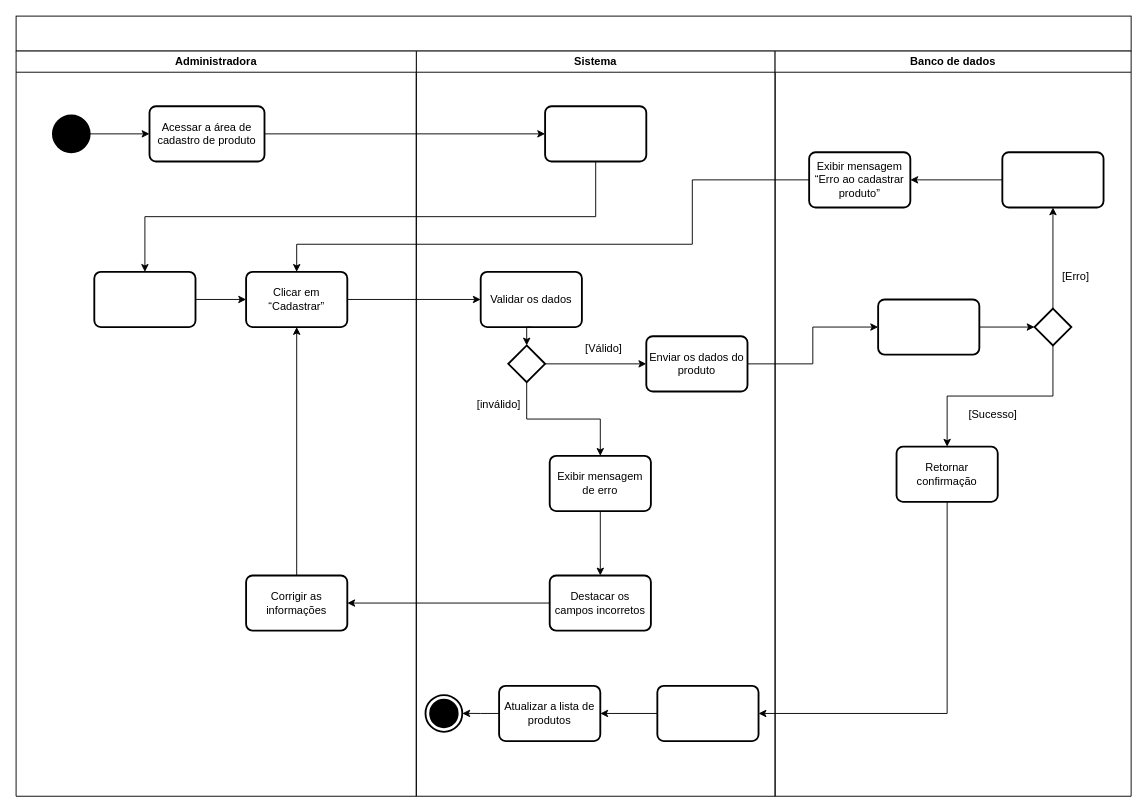
Image size: 1147x812. Some labels were removed from this diagram. The centre of each missing label's shape, as x and y in pixels:
"Diagrama de Atividades: Adicionar produto" belongs at point (573, 33).
"Exibir formulário de cadastro" belongs at point (595, 133).
"Exibir mensagem “Produto cadastrado com sucesso" belongs at point (707, 713).
"Inserir as informações" belongs at point (144, 299).
"Inserir o produto no catálogo" belongs at point (928, 326).
"Retornar falha" belongs at point (1052, 179).
